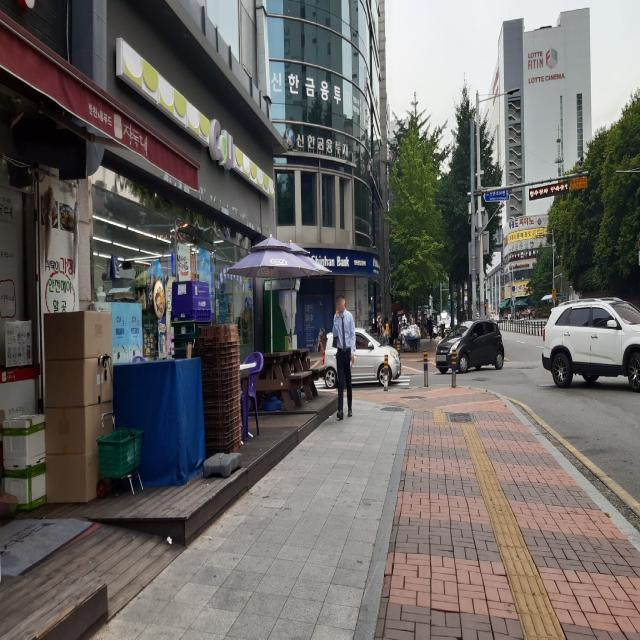횡단보도: (313, 375, 411, 392)
